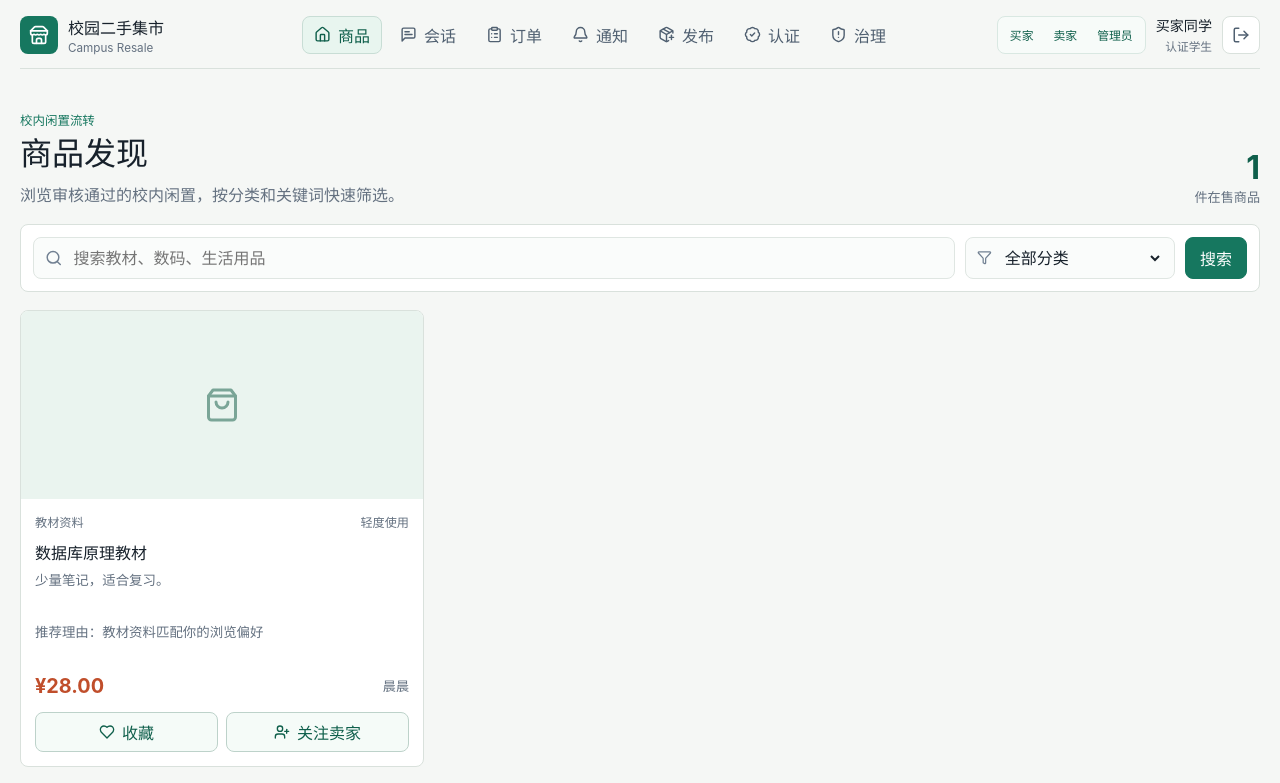
App › creates an order from goods detail and opens the order detail
Click the heading "数据库原理教材" at x=91, y=553, box [35,543,147,563]
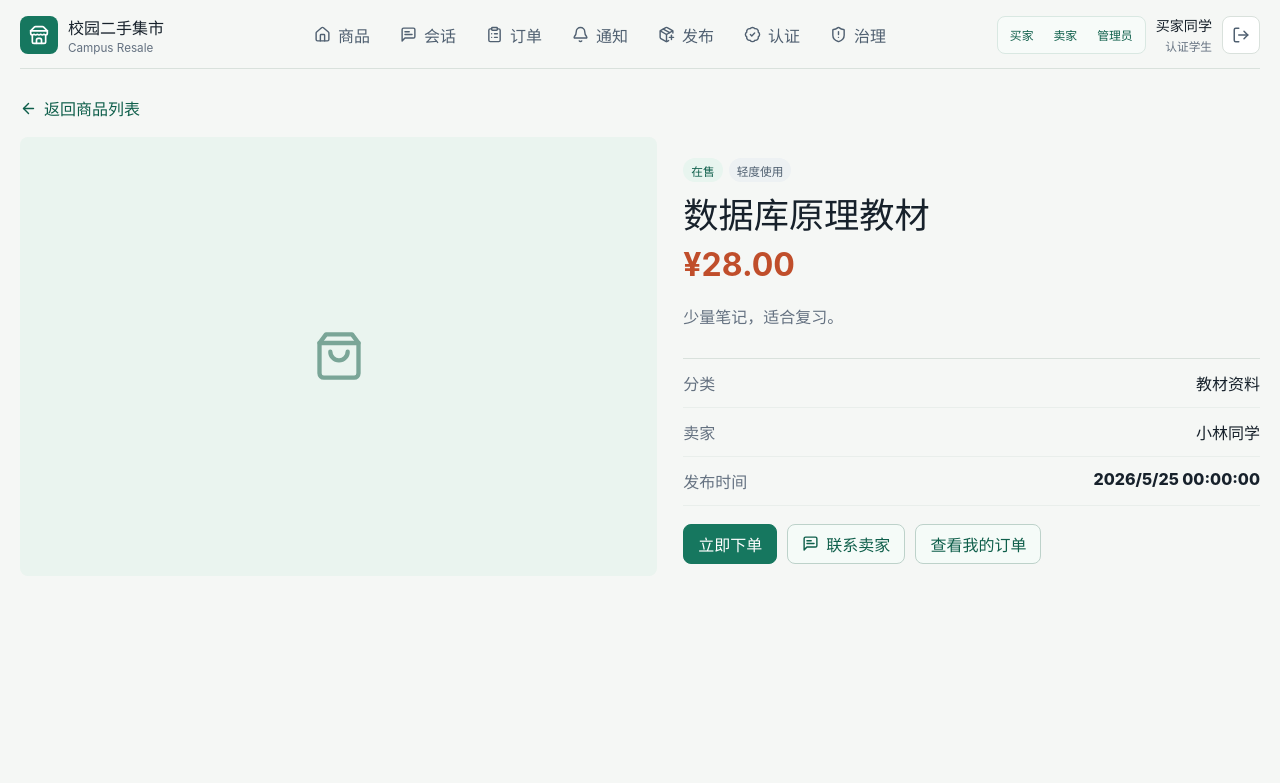
Expected: the button "立即下单" is shown
Click the button "立即下单" at x=730, y=544, box [683,524,777,564]
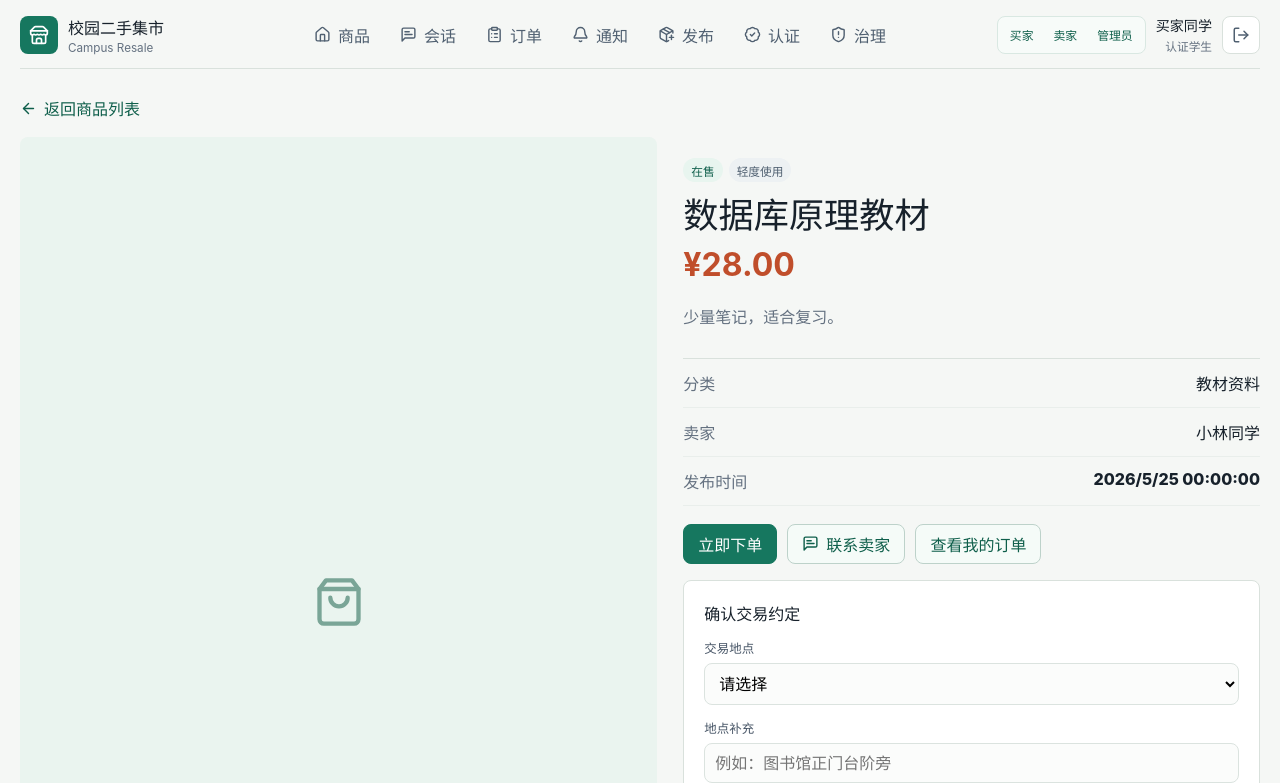
Select "主校区 · 图书馆正门" in the dropdown labelled "交易地点" at x=972, y=684, box [704,663,1239,705]
(page scrolled)
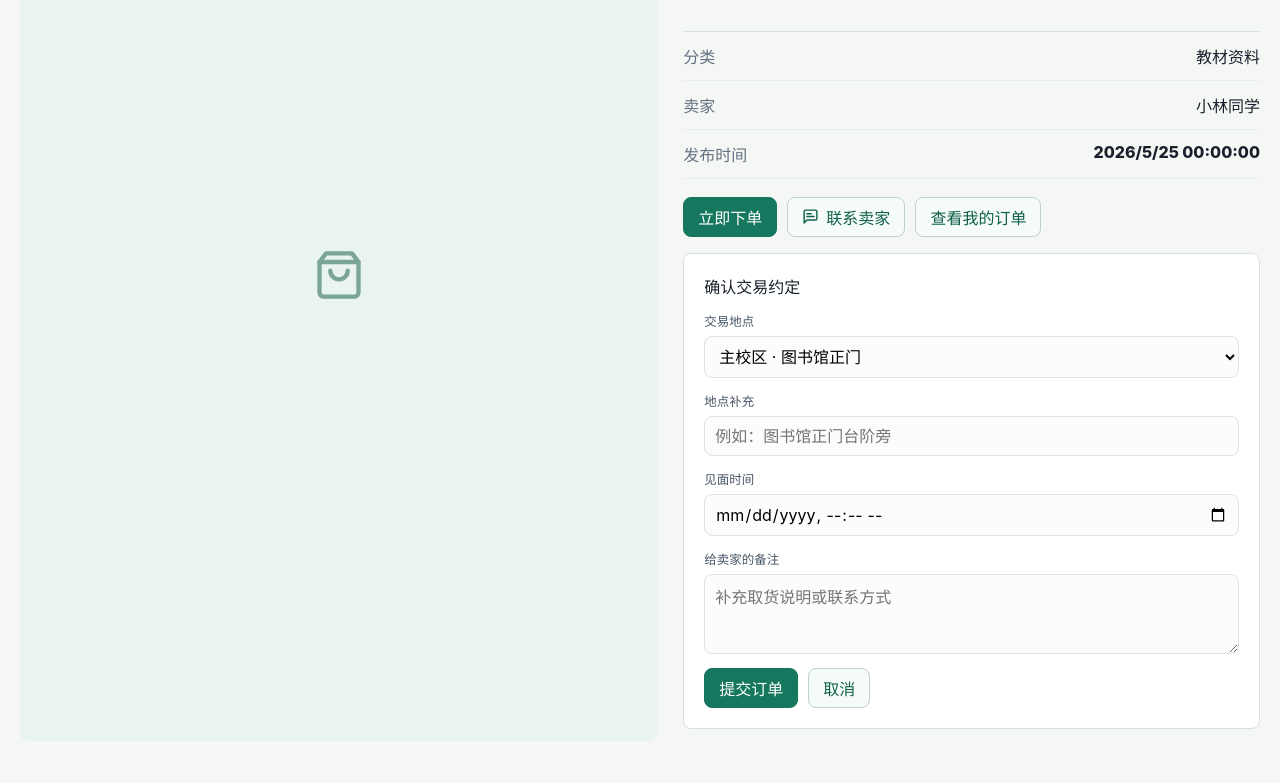
Type "2026-06-10T18:30" into the field labelled "见面时间" at x=972, y=515, box [704,494,1239,536]
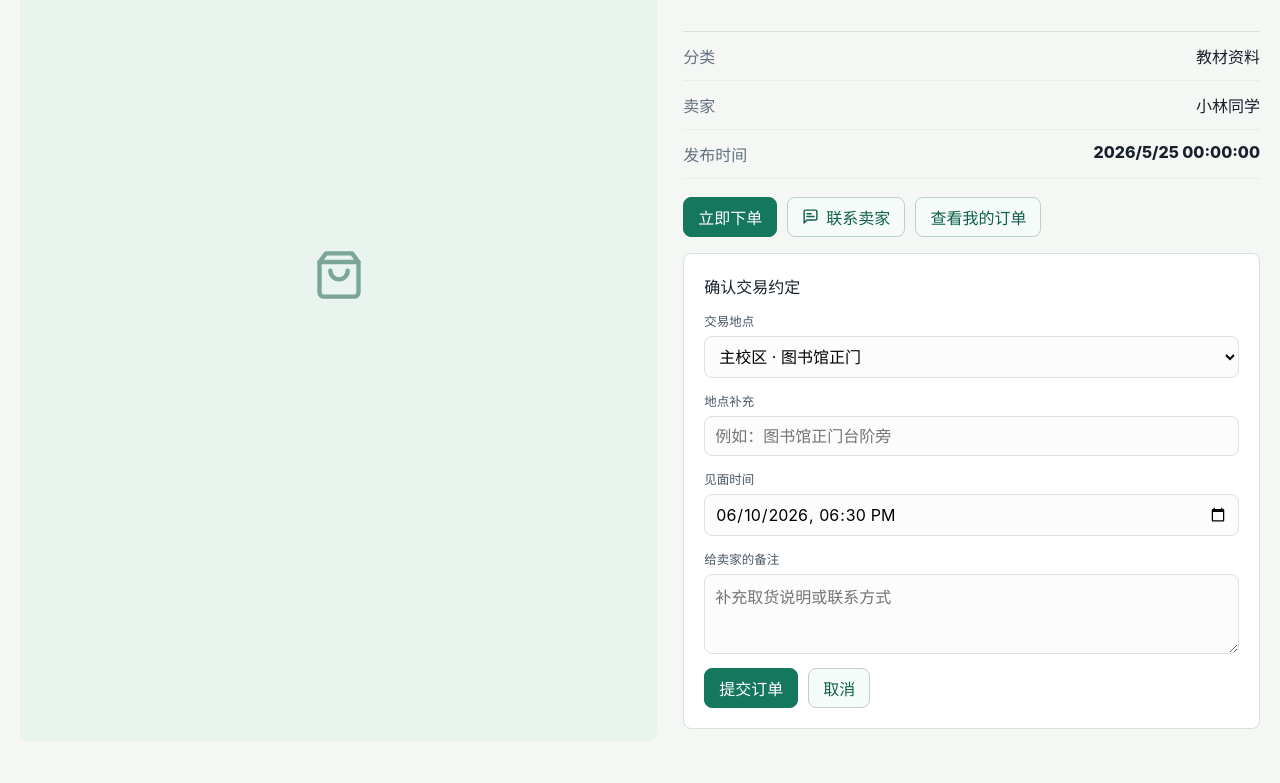
Type "图书馆门口见" into the text box labelled "给卖家的备注" at x=972, y=614, box [704,574,1239,654]
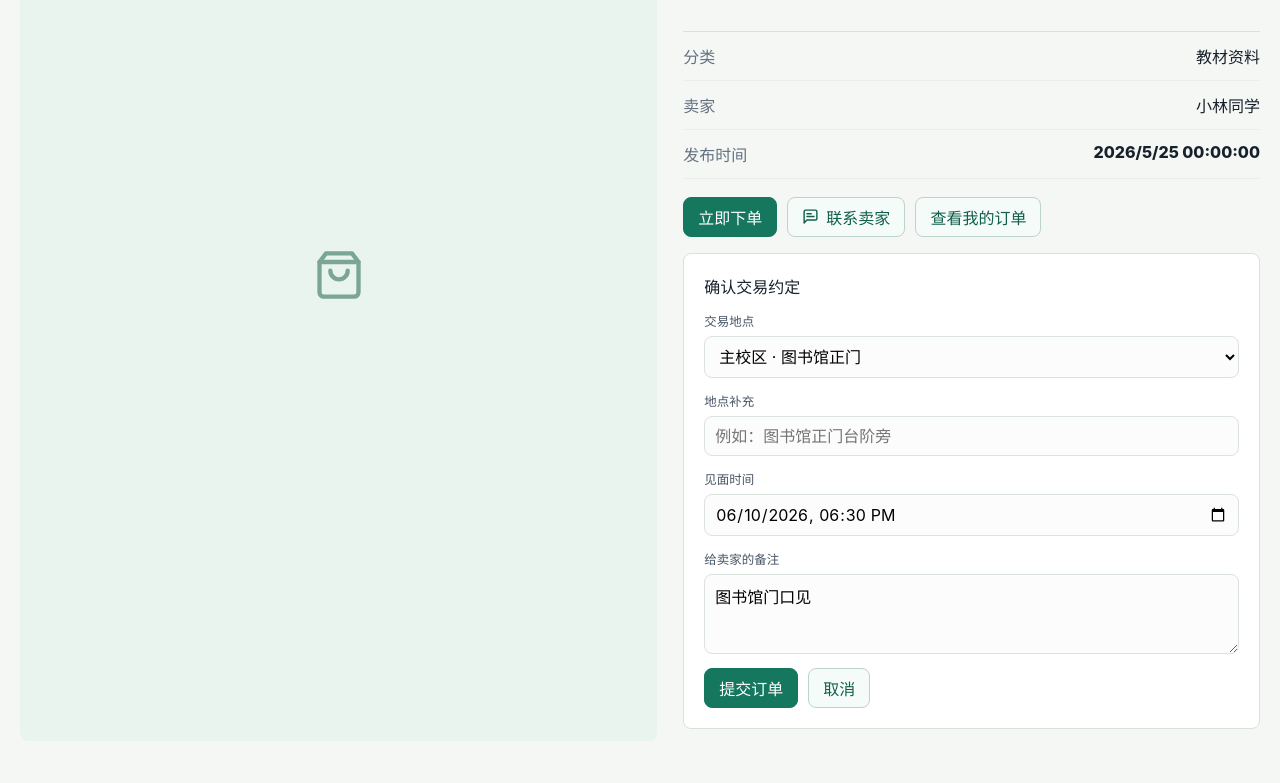
Click the button "提交订单" at x=751, y=688, box [704,668,798,708]
(page scrolled)
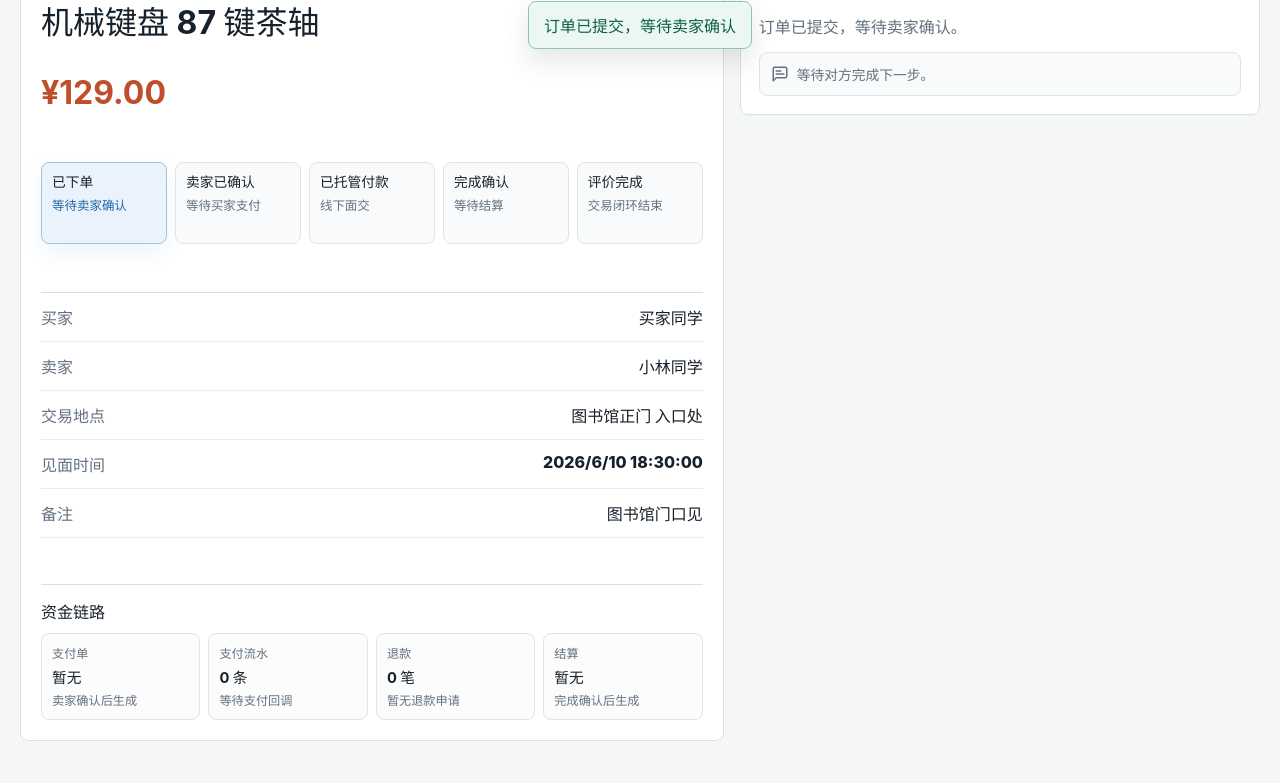
Expected: the text "等待卖家确认" in the row of "机械键盘 87 键茶轴" is shown, [625,10,695,24]
